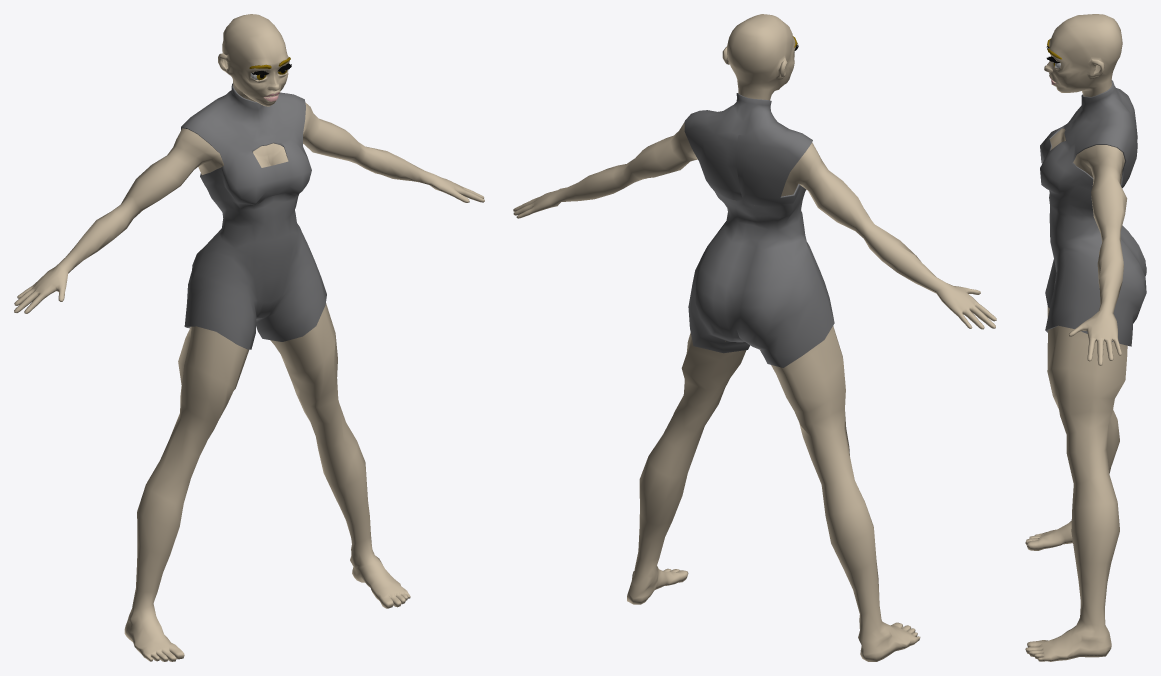
Rendered from Heroine_Base.fbx.
3 views of the same model, side by side, from view 1: azimuth 30°, elevation 25°; view 2: azimuth 150°, elevation 25°; view 3: azimuth 270°, elevation 25° (orthographic). The views are drawn at different scales.
Parts seen in each view (by area): view 1: Suit_Geo; view 2: Suit_Geo; view 3: Suit_Geo.
Boxes of the visible parts, x1=… form: Suit_Geo: x1=14, y1=14, x2=484, y2=661; Suit_Geo: x1=513, y1=14, x2=996, y2=661; Suit_Geo: x1=1025, y1=14, x2=1146, y2=661.
Bounding box in the file's own units: 29.28 × 35.25 × 6.65.
